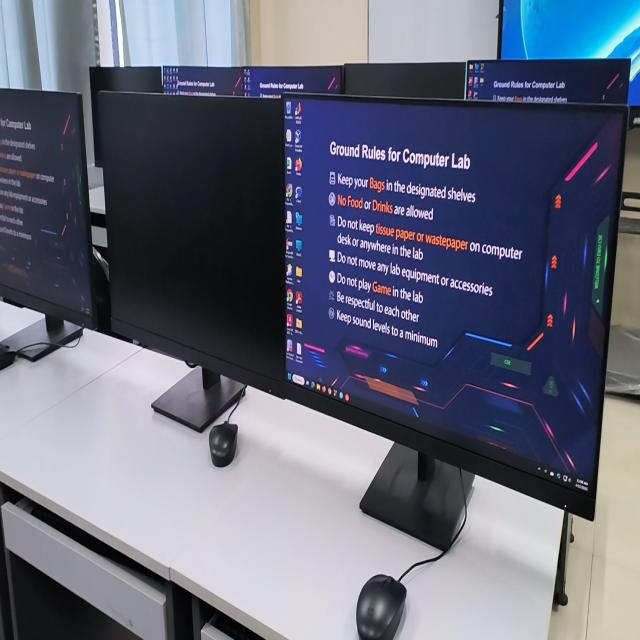Chair: (91, 209, 111, 334)
Digital board: (501, 0, 640, 104)
Monitor: (280, 94, 627, 550), (97, 92, 284, 431), (0, 88, 97, 361), (465, 59, 630, 104), (90, 66, 163, 165), (342, 63, 465, 98), (244, 66, 342, 97), (162, 66, 244, 96)
Mouse: (356, 574, 407, 639), (209, 421, 238, 467), (0, 345, 15, 370)
